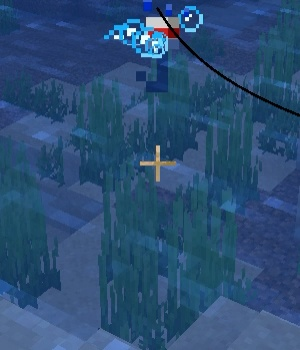up: (136, 12, 189, 98)
